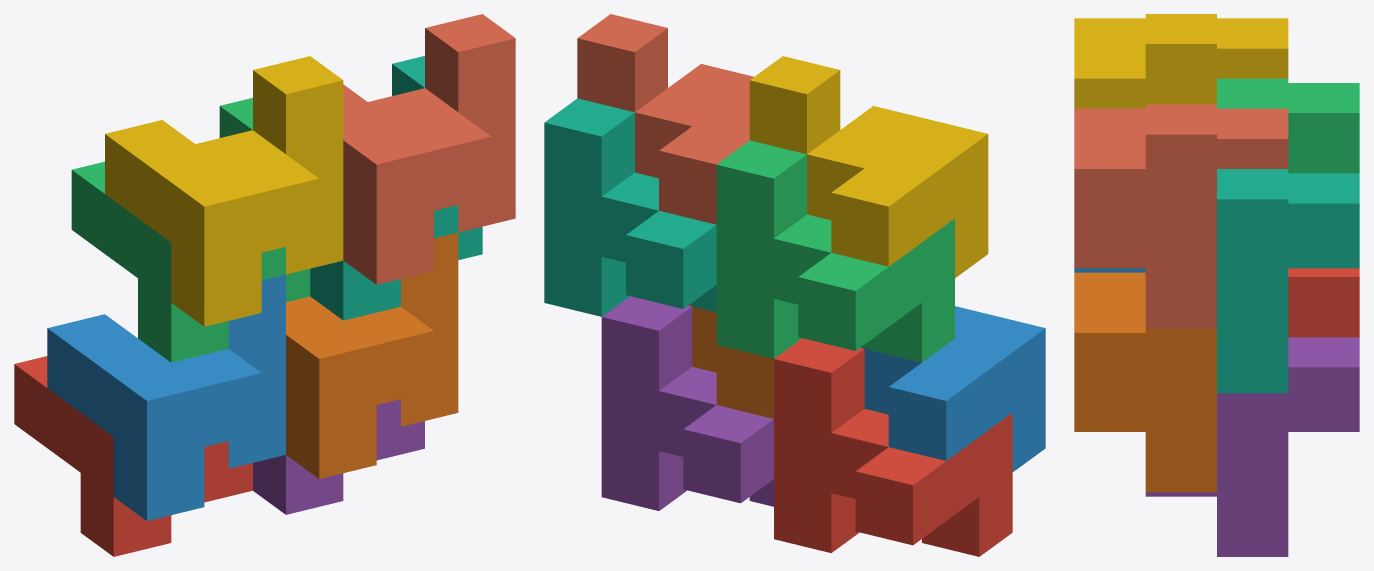
File: tiling.obj
The picture shows the model from 3 angles, left to right: view 1: azimuth 30°, elevation 25°; view 2: azimuth 150°, elevation 25°; view 3: azimuth 270°, elevation 25°; orthographic projection. The views are drawn at different scales.
Parts seen in each view (by area): view 1: copy_1_domain_4, copy_1_domain_8, copy_1_domain_2, copy_1_domain_6, copy_1_domain_3, copy_1_domain_1, copy_1_domain_7, copy_1_domain_5; view 2: copy_1_domain_3, copy_1_domain_1, copy_1_domain_4, copy_1_domain_7, copy_1_domain_5, copy_1_domain_8, copy_1_domain_2, copy_1_domain_6; view 3: copy_1_domain_8, copy_1_domain_6, copy_1_domain_7, copy_1_domain_5, copy_1_domain_4, copy_1_domain_3, copy_1_domain_1, copy_1_domain_2.
Part boxes in pixels (x1=…): copy_1_domain_4: x1=105, y1=56, x2=343, y2=326; copy_1_domain_8: x1=343, y1=14, x2=515, y2=284; copy_1_domain_2: x1=47, y1=274, x2=285, y2=520; copy_1_domain_6: x1=286, y1=232, x2=458, y2=478; copy_1_domain_3: x1=71, y1=98, x2=310, y2=362; copy_1_domain_1: x1=14, y1=356, x2=252, y2=556; copy_1_domain_7: x1=310, y1=56, x2=482, y2=320; copy_1_domain_5: x1=253, y1=399, x2=424, y2=514; copy_1_domain_3: x1=716, y1=140, x2=954, y2=362; copy_1_domain_1: x1=774, y1=338, x2=1012, y2=556; copy_1_domain_4: x1=749, y1=56, x2=988, y2=277; copy_1_domain_7: x1=544, y1=98, x2=716, y2=316; copy_1_domain_5: x1=601, y1=296, x2=773, y2=510; copy_1_domain_8: x1=577, y1=14, x2=753, y2=224; copy_1_domain_2: x1=861, y1=306, x2=1045, y2=471; copy_1_domain_6: x1=688, y1=303, x2=773, y2=418; copy_1_domain_8: x1=1074, y1=104, x2=1288, y2=328; copy_1_domain_6: x1=1074, y1=272, x2=1216, y2=492; copy_1_domain_7: x1=1217, y1=169, x2=1359, y2=393; copy_1_domain_5: x1=1145, y1=337, x2=1359, y2=556; copy_1_domain_4: x1=1074, y1=14, x2=1288, y2=108; copy_1_domain_3: x1=1217, y1=78, x2=1359, y2=173; copy_1_domain_1: x1=1288, y1=268, x2=1359, y2=337; copy_1_domain_2: x1=1074, y1=268, x2=1145, y2=272.
Size of the model in its own units: 7 by 7 by 4.
